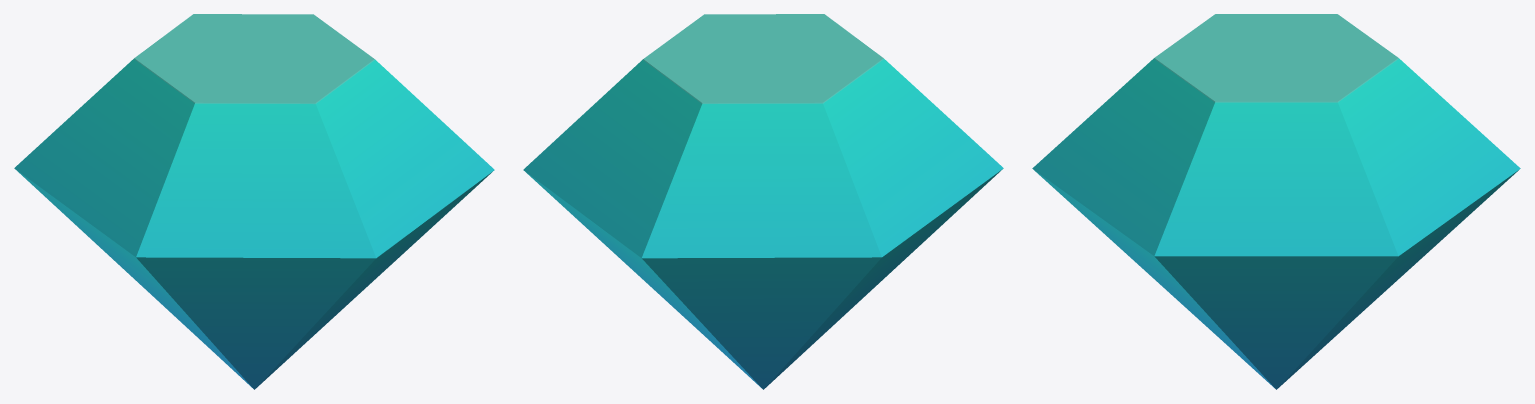
File: dimond.obj
The picture shows the model from 3 angles, left to right: view 1: azimuth 30°, elevation 25°; view 2: azimuth 150°, elevation 25°; view 3: azimuth 270°, elevation 25°; orthographic projection.
Parts seen in each view (by area): view 1: Gem3_Circle.001; view 2: Gem3_Circle.001; view 3: Gem3_Circle.001.
Boxes of the visible parts, <box> form: Gem3_Circle.001: <box>14,14,494,389</box>; Gem3_Circle.001: <box>523,14,1003,389</box>; Gem3_Circle.001: <box>1032,14,1520,389</box>.
Bounding box in the file's own units: 0.425 × 0.375 × 0.5.
1 material, 1 textured.
